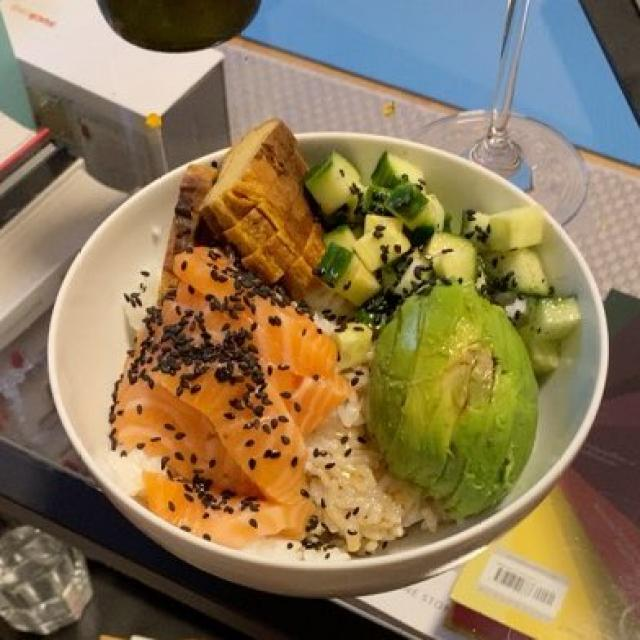avocado: (377, 288, 545, 521)
cucumber: (316, 163, 580, 395)
omelette-plain: (150, 108, 324, 323)
rice: (303, 354, 438, 537)
salmon: (113, 254, 361, 546)
sesame-seeds: (113, 184, 511, 514)
